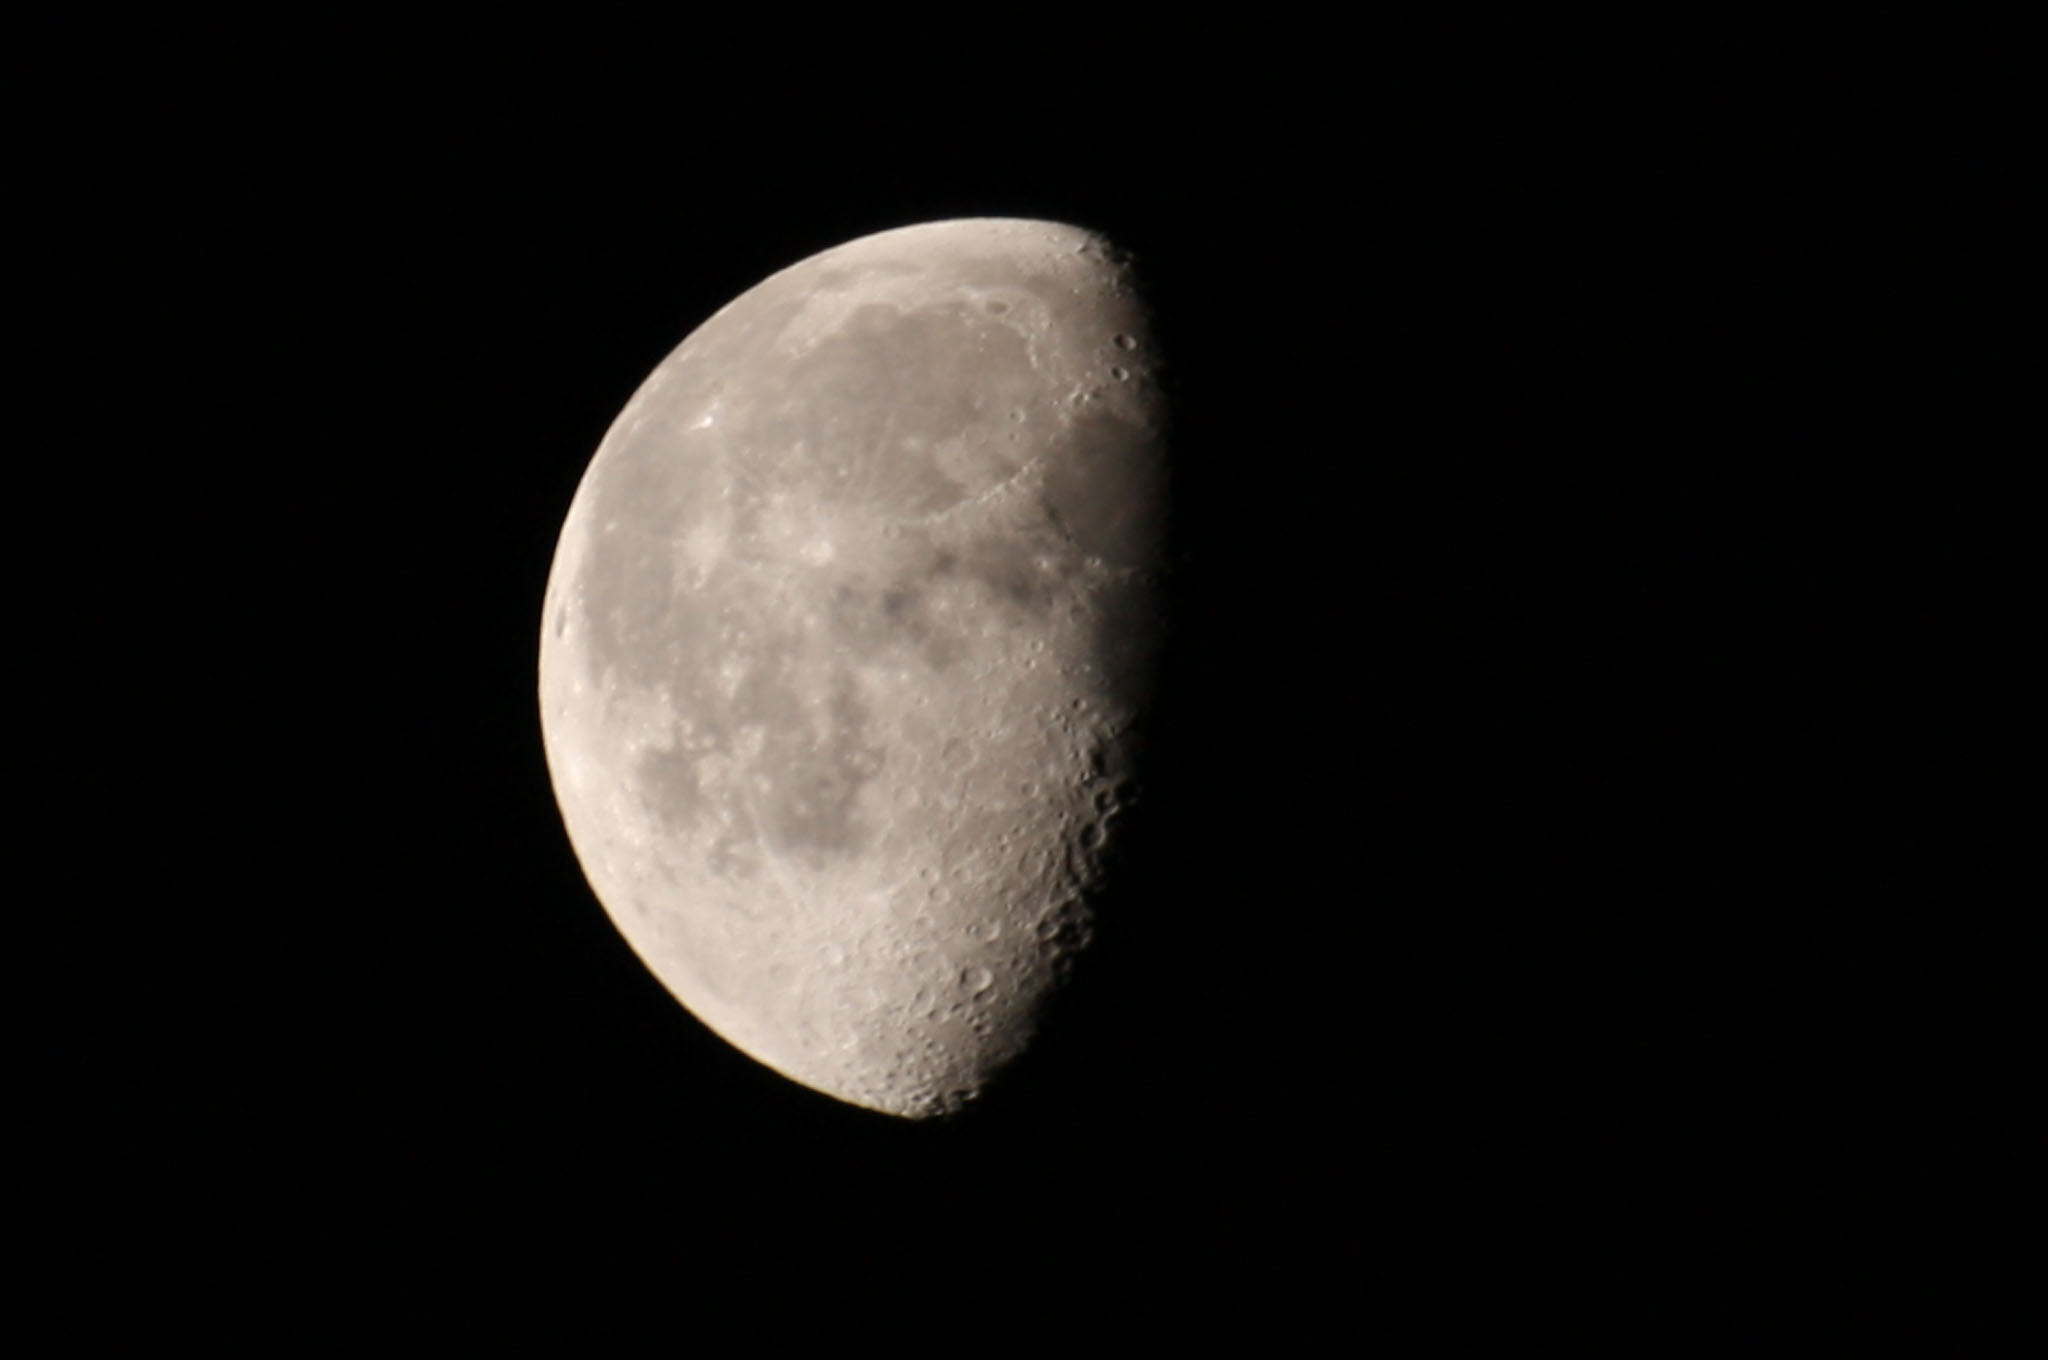crater: (945, 953, 1001, 1009), (933, 733, 991, 786), (790, 521, 836, 583)
